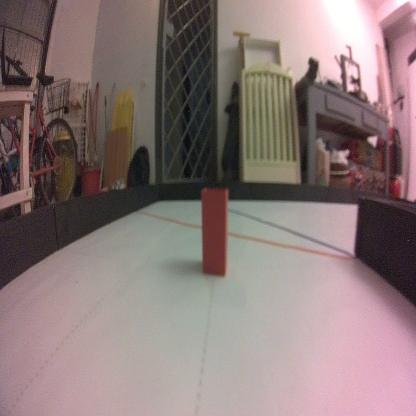red: (200, 184, 230, 278)
